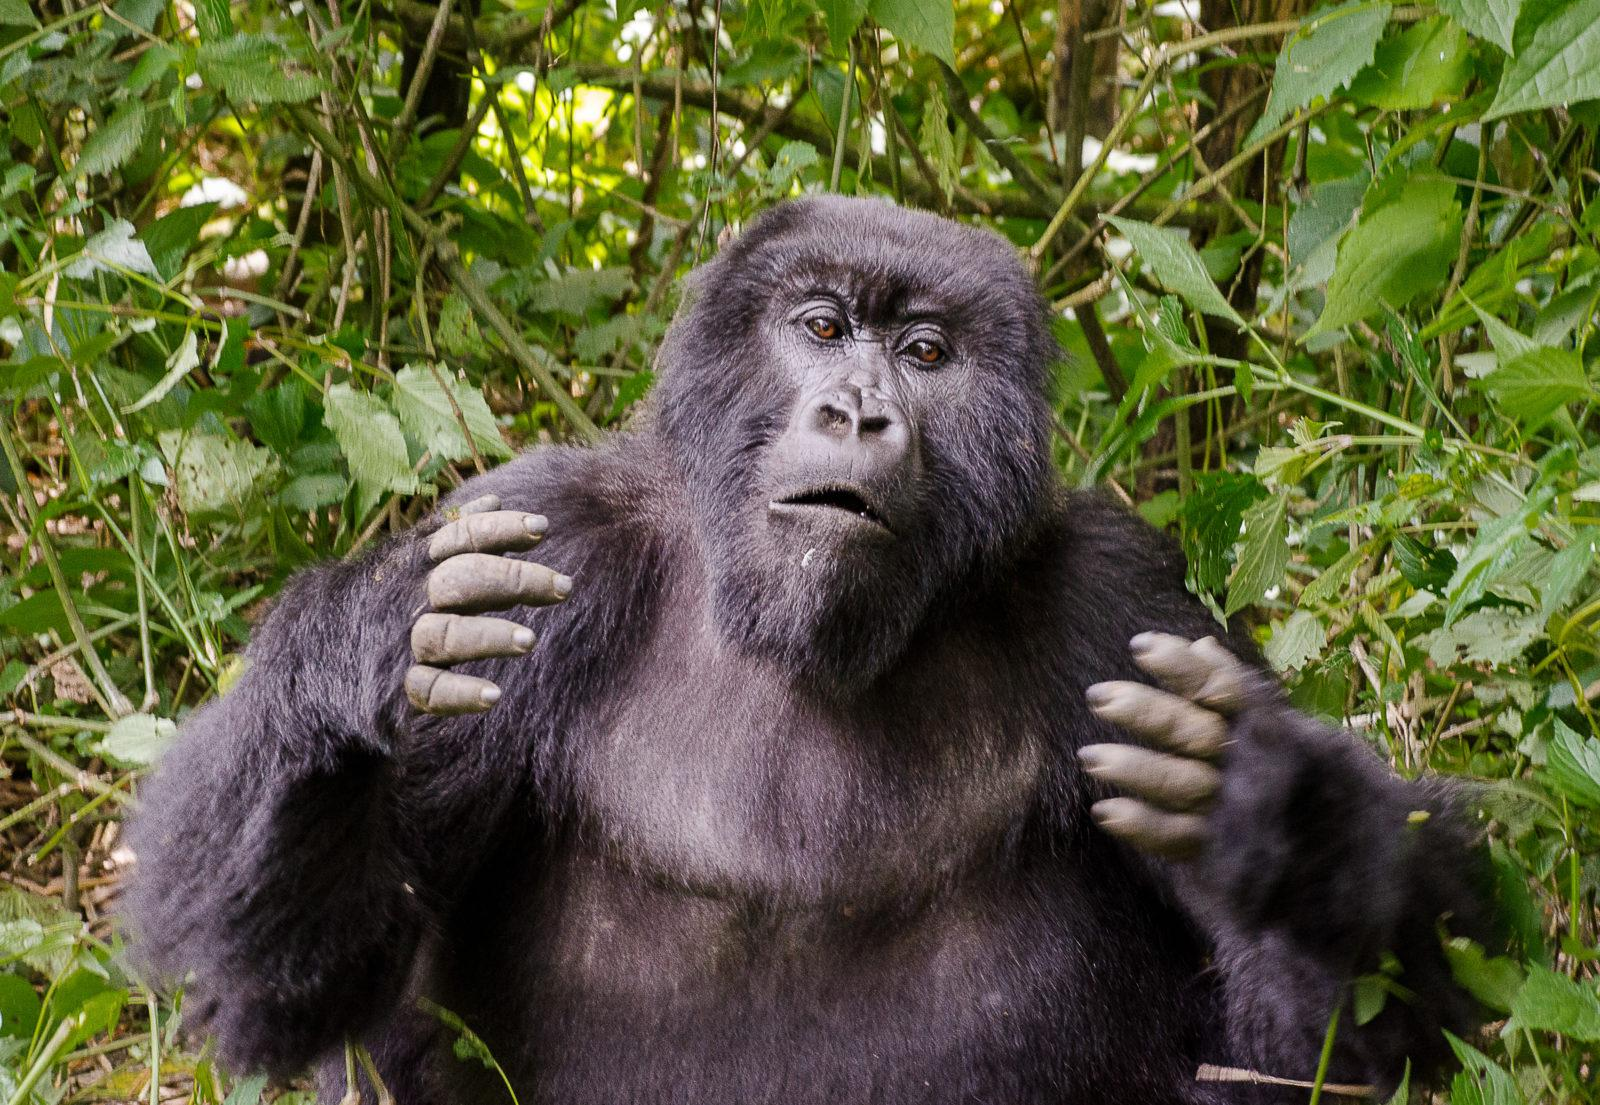goriile_montagne: (60, 67, 1600, 1104)
